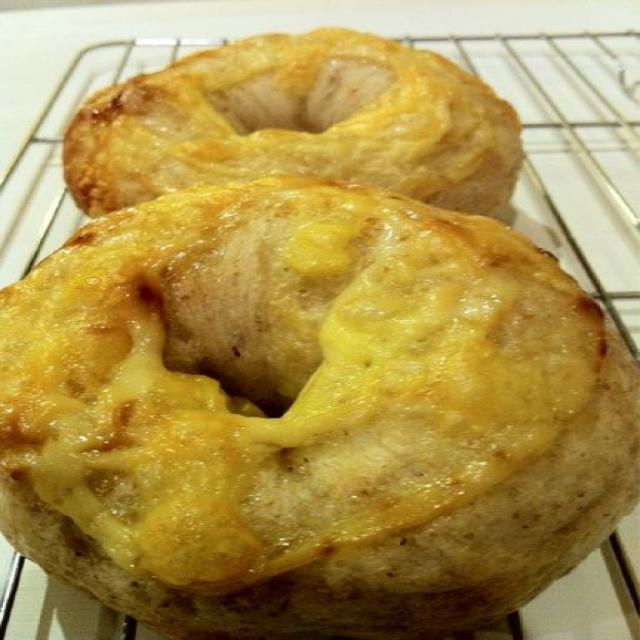面包点心: (12, 27, 625, 616)
